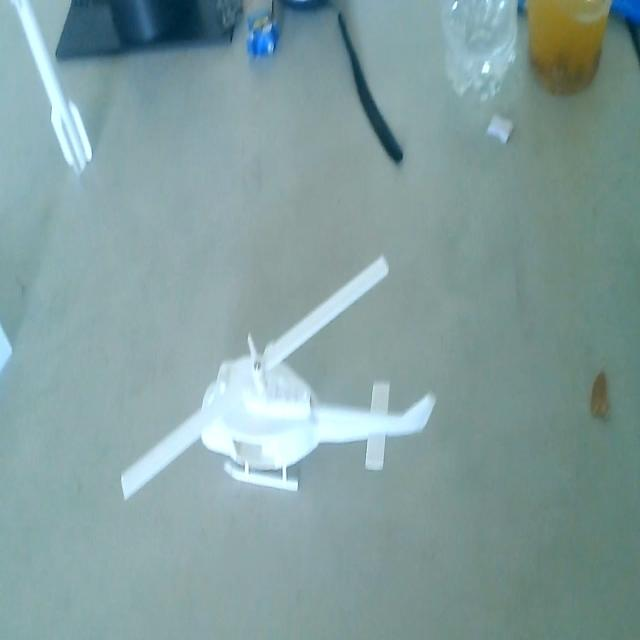Helicopter: (115, 252, 439, 540)
Rocket: (14, 0, 100, 181)
